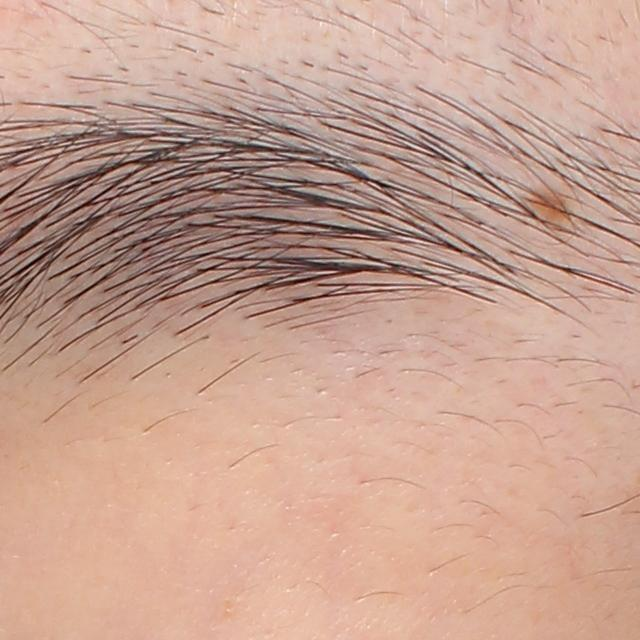nevus: (520, 177, 568, 223)
